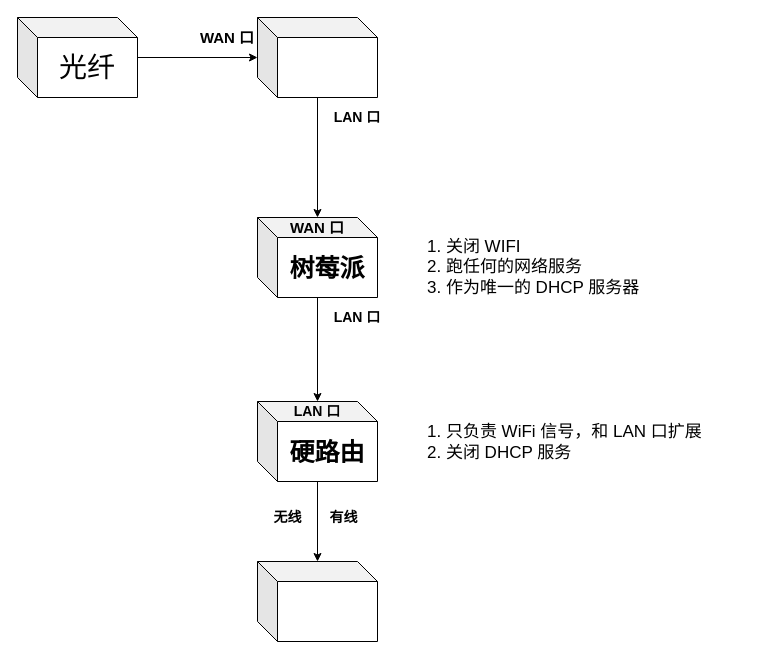
Some shapes in this 763 by 659 pixel diagram are drawn without their labels. The shapes that lost their labels are listed below. From the top down, each one's centre as x and y in pixels, then its label:
At (x=317, y=57): "光猫".
At (x=317, y=601): "终端".
